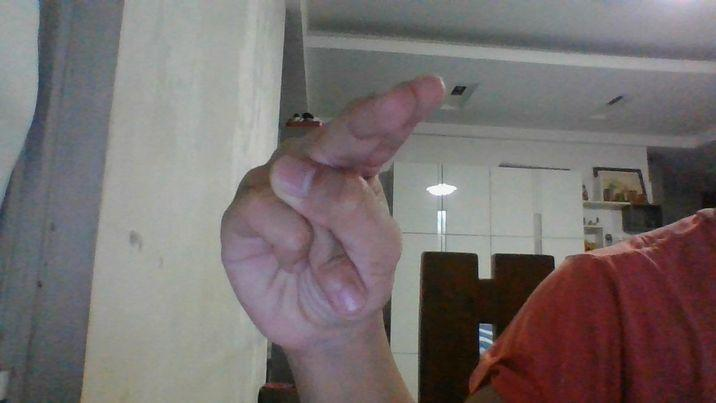n: (219, 74, 448, 343)
